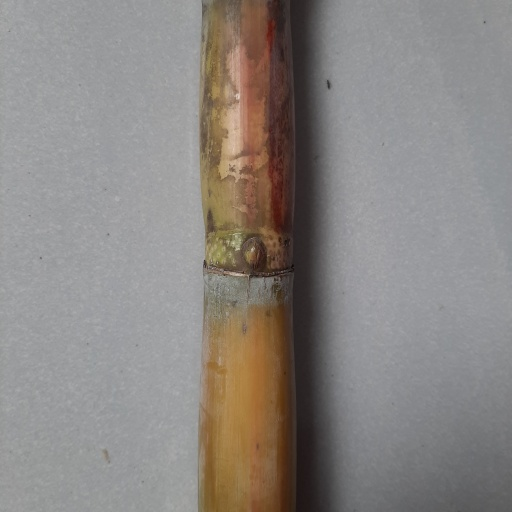Bud: (243, 235, 268, 272)
